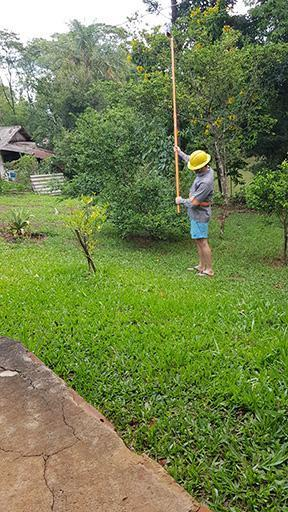helmet: (187, 149, 211, 175)
